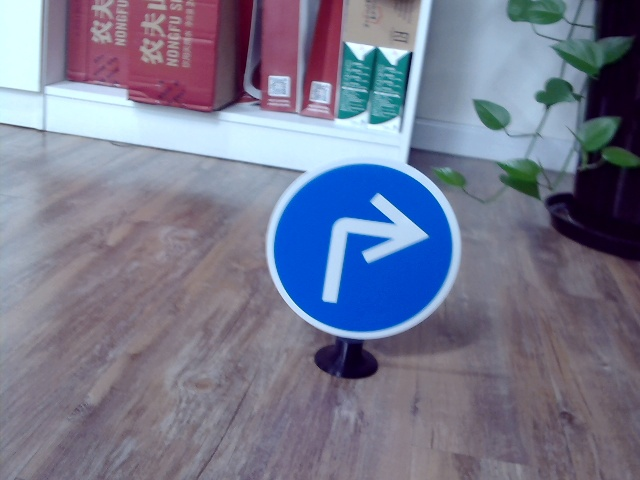turn_right: (320, 187, 425, 306)
